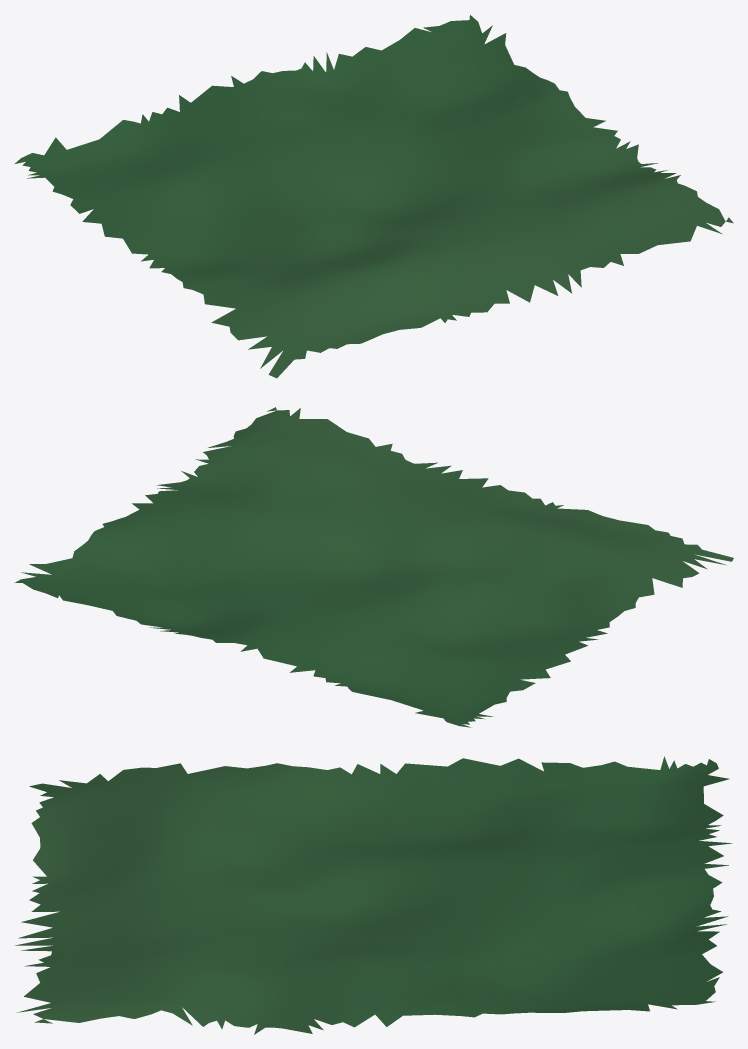
File: payo_land_x0_y7.glb
The picture shows the model from 3 angles, top to bottom: view 1: azimuth 30°, elevation 25°; view 2: azimuth 150°, elevation 25°; view 3: azimuth 270°, elevation 25°; orthographic projection. The views are drawn at different scales.
Visible parts, largest first — view 1: payo_land_x0_y7; view 2: payo_land_x0_y7; view 3: payo_land_x0_y7.
Part boxes in pixels (box(x1,y1,x2,y2)): payo_land_x0_y7: box(15, 15, 733, 378); payo_land_x0_y7: box(15, 407, 733, 727); payo_land_x0_y7: box(15, 756, 732, 1034).
Bounding box in the file's own units: 271 × 30.95 × 273.
